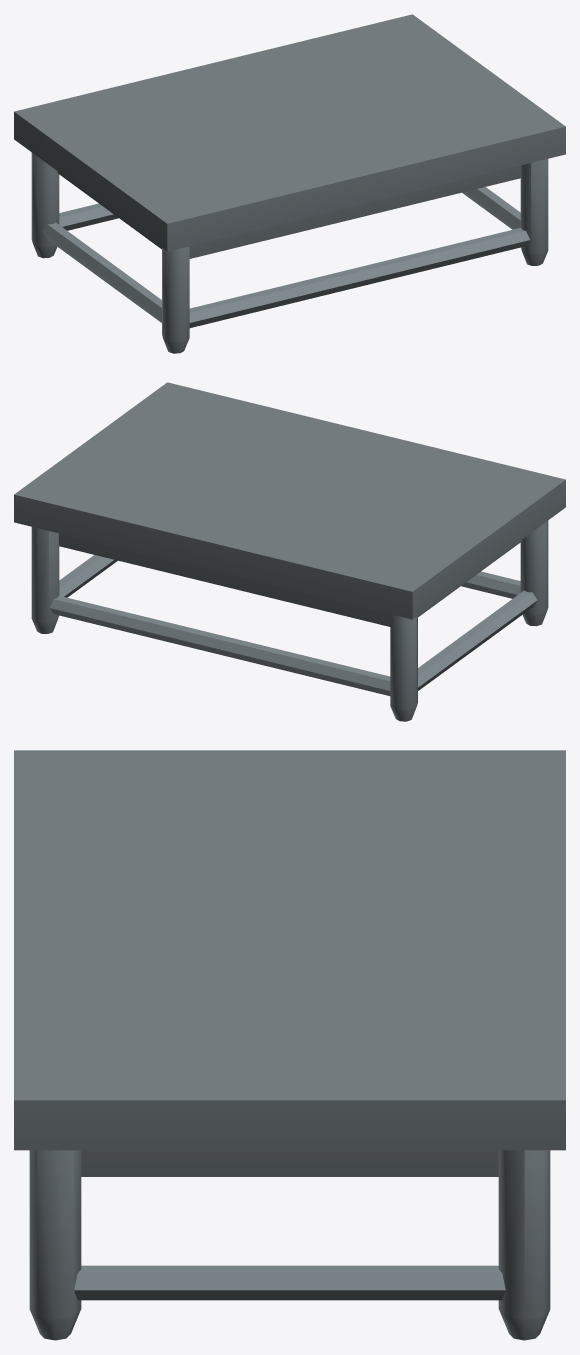
The model's file is kay-kitchentable_a_large.glb.
3 views of the same model, one above another, from view 1: azimuth 30°, elevation 25°; view 2: azimuth 150°, elevation 25°; view 3: azimuth 270°, elevation 25° (orthographic). The views are drawn at different scales.
Parts seen in each view (by area): view 1: kitchentable_A_large; view 2: kitchentable_A_large; view 3: kitchentable_A_large.
Boxes of the visible parts, x1,y1,x2,y2 form: kitchentable_A_large: (14, 14, 565, 353); kitchentable_A_large: (14, 382, 565, 721); kitchentable_A_large: (14, 750, 565, 1340).
Bounding box in the file's own units: 1.8 × 0.6023 × 1.2.
Materials: 1 (1 with a texture image).
